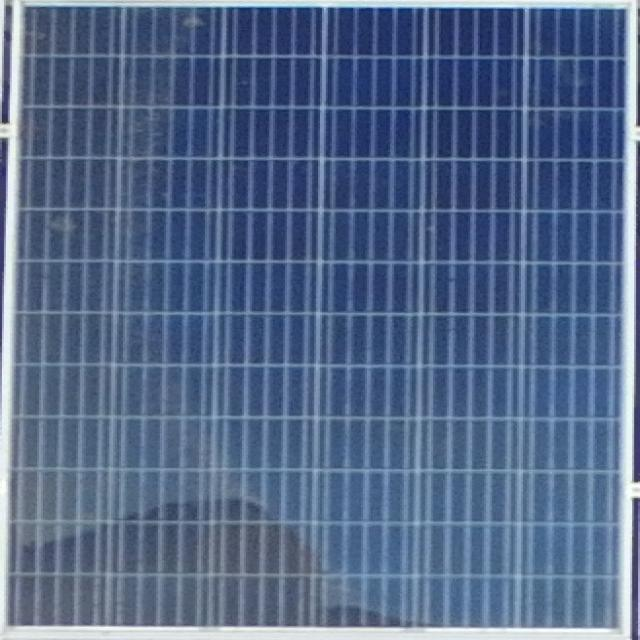Dust: (2, 421, 433, 640), (11, 5, 211, 281)
